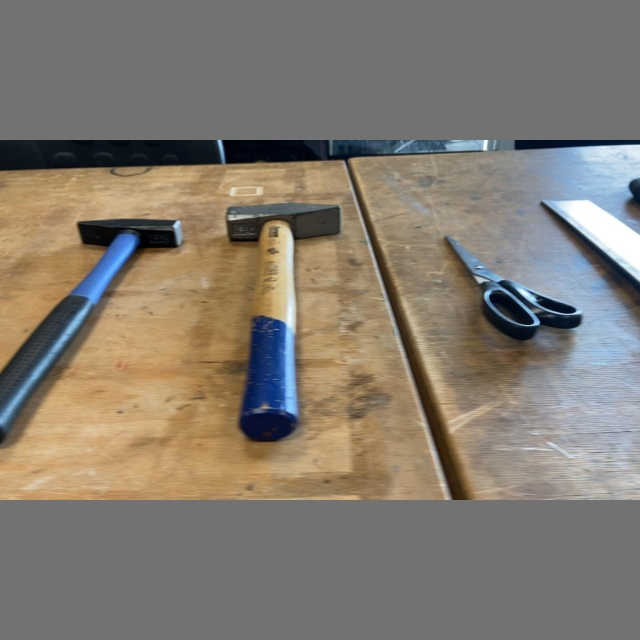scissor: (438, 231, 590, 347)
